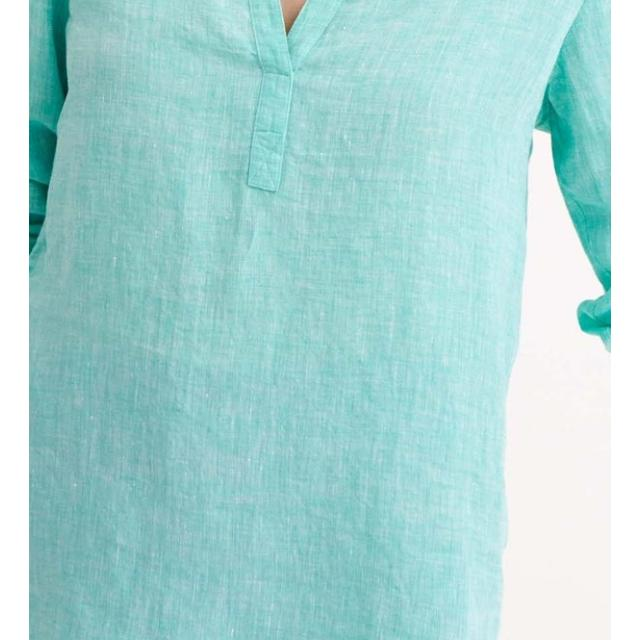linen: (29, 0, 539, 640)
